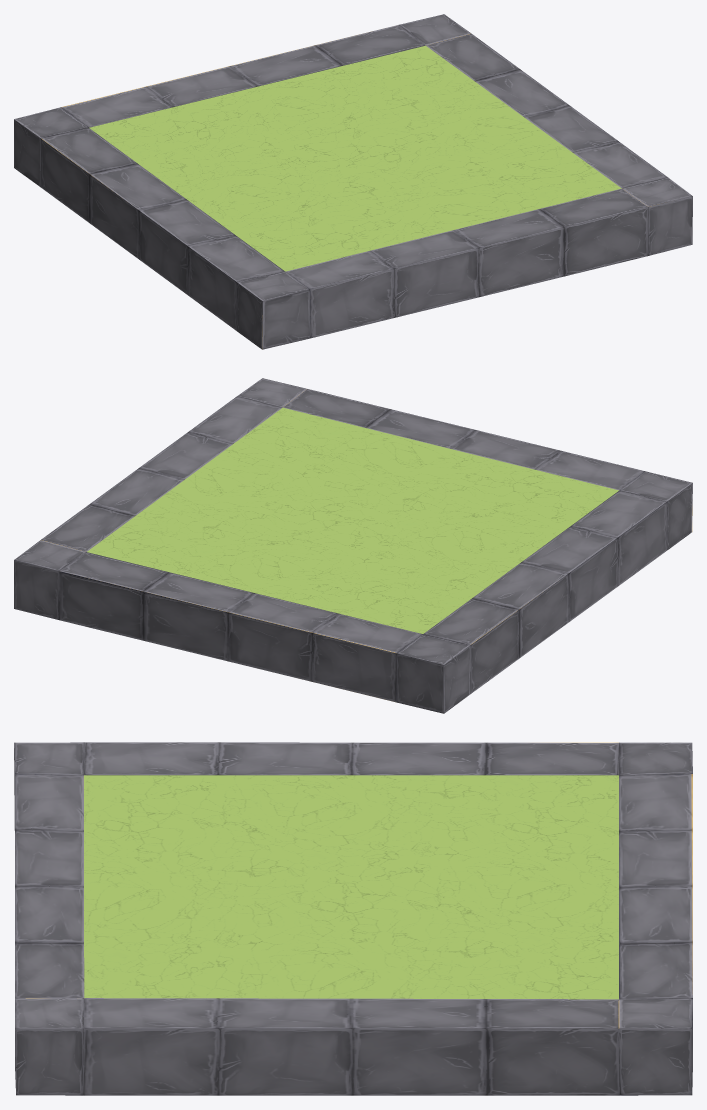
File: Capricorn_Floor_Tile_1.fbx
The picture shows the model from 3 angles, top to bottom: view 1: azimuth 30°, elevation 25°; view 2: azimuth 150°, elevation 25°; view 3: azimuth 270°, elevation 25°; orthographic projection. The views are drawn at different scales.
Visible parts, largest first — view 1: Capricorn_Floor_Tile_1; view 2: Capricorn_Floor_Tile_1; view 3: Capricorn_Floor_Tile_1.
Boxes of the visible parts, left/top/right/bottom form: Capricorn_Floor_Tile_1: left=14, top=14, right=692, bottom=349; Capricorn_Floor_Tile_1: left=14, top=378, right=692, bottom=713; Capricorn_Floor_Tile_1: left=14, top=742, right=692, bottom=1095.
Size of the model in its own units: 602 by 600 by 65.41.
